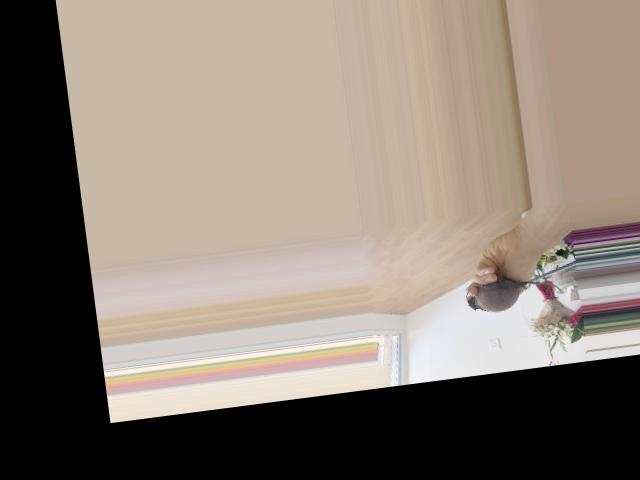beet: (464, 270, 563, 315)
